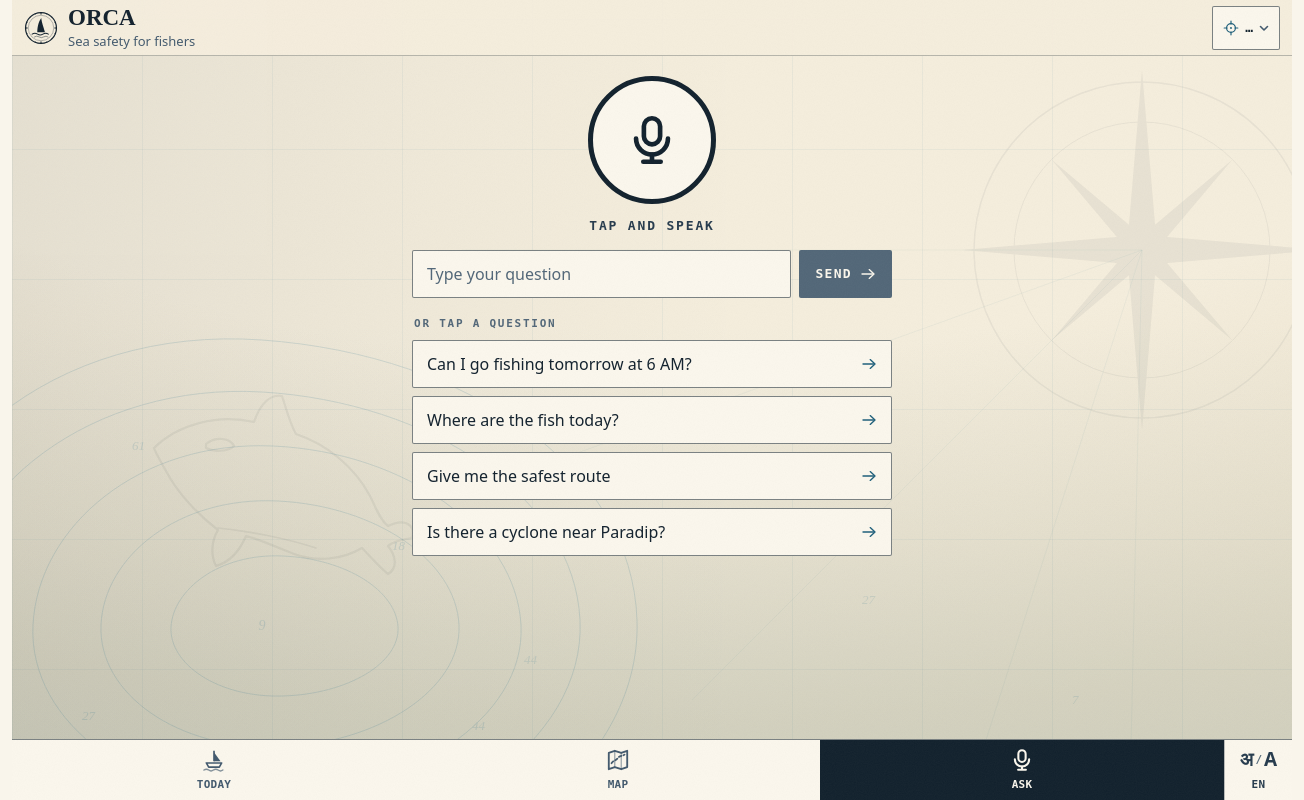
Scenario: the phone › Ask: the answer card never stamps 'Safe to go' on a withheld verdict
Click the button "Where are the fish today?" at (523, 420), box [412,396,892,444]
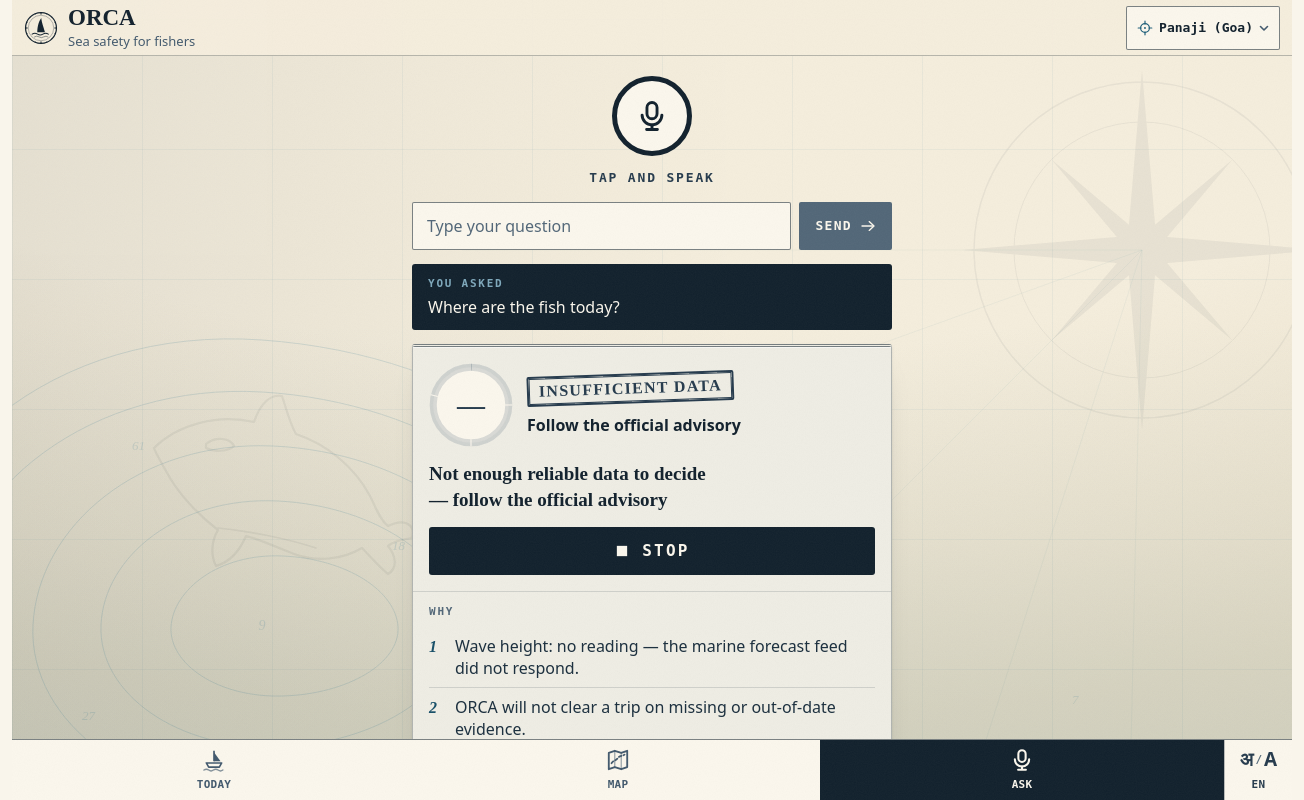
Result: the text "Follow the official advisory" is shown at [527,415,741,435]
Result: the text "Insufficient data" is shown at [526,370,734,407]
Result: the list item "no reading — the marine forecast feed did not respond" is shown at [455,635,848,679]
